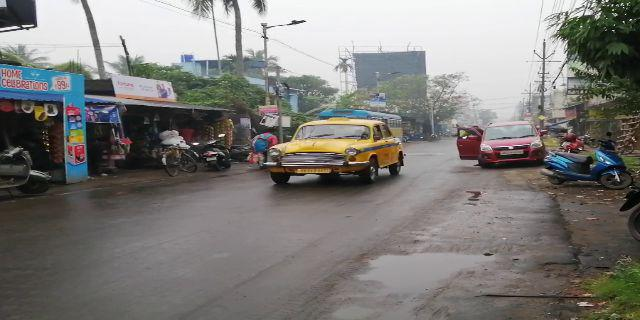Car: (273, 119, 407, 184), (470, 124, 544, 166)
Motorbike: (554, 150, 630, 187)
